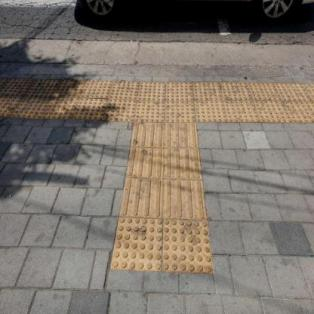Podoctatil: (109, 123, 213, 267), (1, 82, 312, 117)
